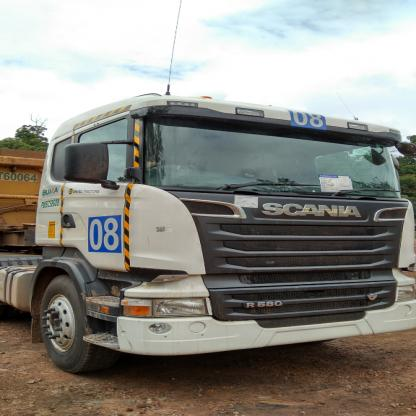truck: (1, 91, 416, 376)
